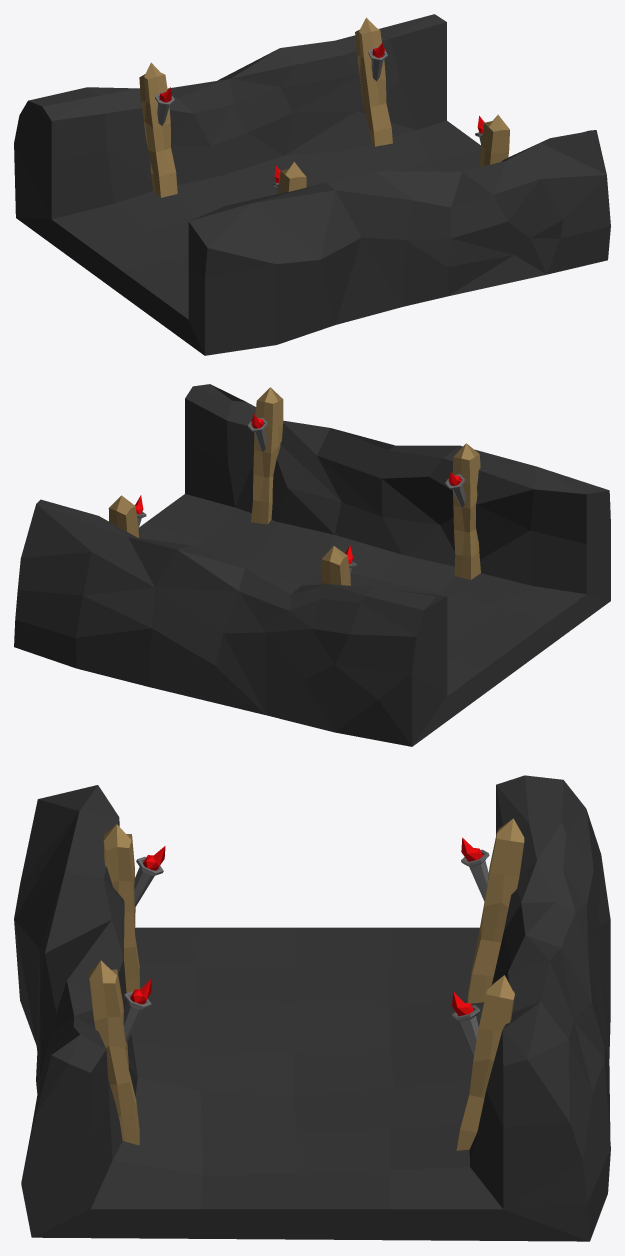
The model's file is tunnel.fbx.
3 renders of one model, top to bottom at view 1: azimuth 30°, elevation 25°; view 2: azimuth 150°, elevation 25°; view 3: azimuth 270°, elevation 25°, orthographic. The views are drawn at different scales.
Visible parts, largest first — view 1: tunell, Torch.010, Torch.007, Torch.008, Torch; view 2: tunell, Torch, Torch.008, Torch.010, Torch.007; view 3: tunell, Torch.010, Torch.008, Torch.007, Torch.
Boxes of the visible parts, x1,y1,x2,y2 form: tunell: [14, 14, 610, 355]; Torch.010: [139, 62, 177, 197]; Torch.007: [355, 17, 392, 146]; Torch.008: [475, 114, 509, 167]; Torch: [272, 161, 306, 193]; tunell: [14, 384, 610, 746]; Torch: [445, 443, 480, 579]; Torch.008: [248, 387, 283, 524]; Torch.010: [321, 545, 356, 585]; Torch.007: [108, 495, 146, 537]; tunell: [14, 775, 610, 1241]; Torch.010: [461, 818, 524, 1003]; Torch.008: [89, 960, 151, 1145]; Torch.007: [452, 975, 514, 1150]; Torch: [103, 824, 165, 992].
Bounding box in the file's own units: 2154 × 784 × 1911.
